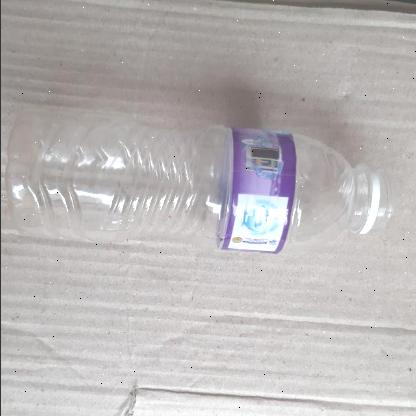Plastic Bottle: (0, 110, 416, 262)
